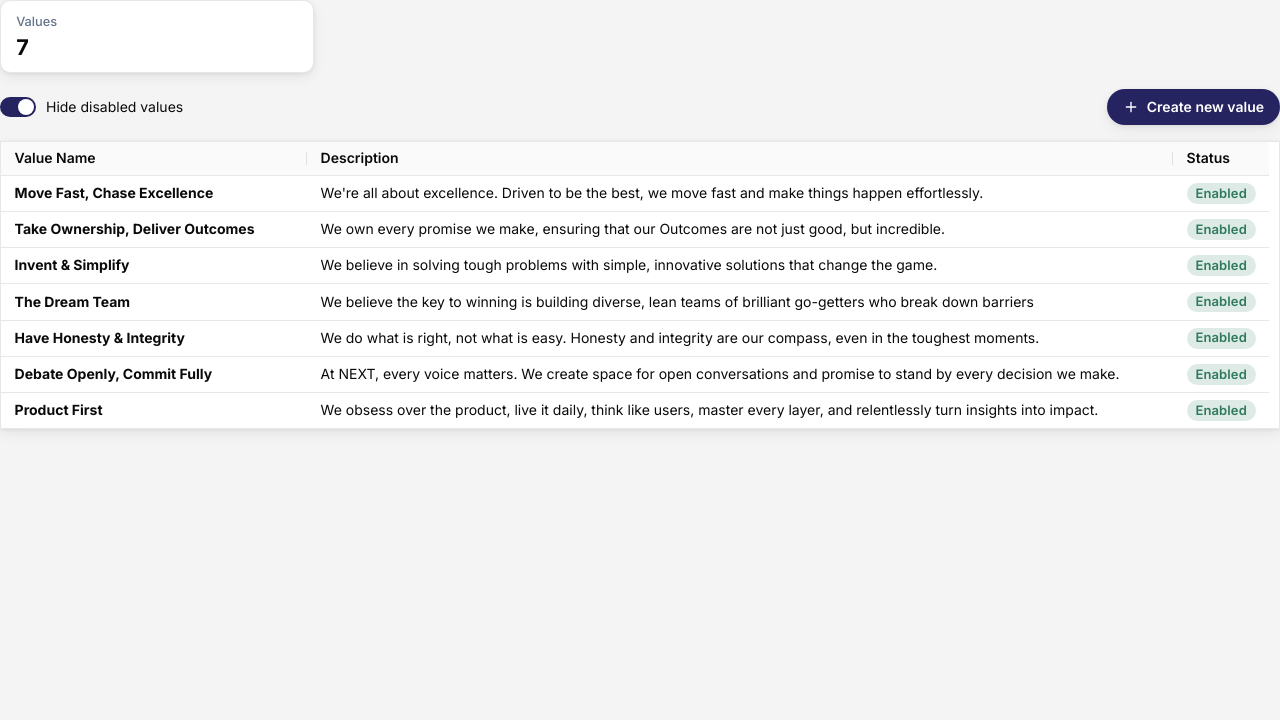
ValuesLibrary › opens edit from a table row click
The width and height of the screenshot is (1280, 720).
What coordinates should you click on to do the following:
click the text "Product First"
I would click on:
 (59, 411)
Its box is [15,401,102,420].
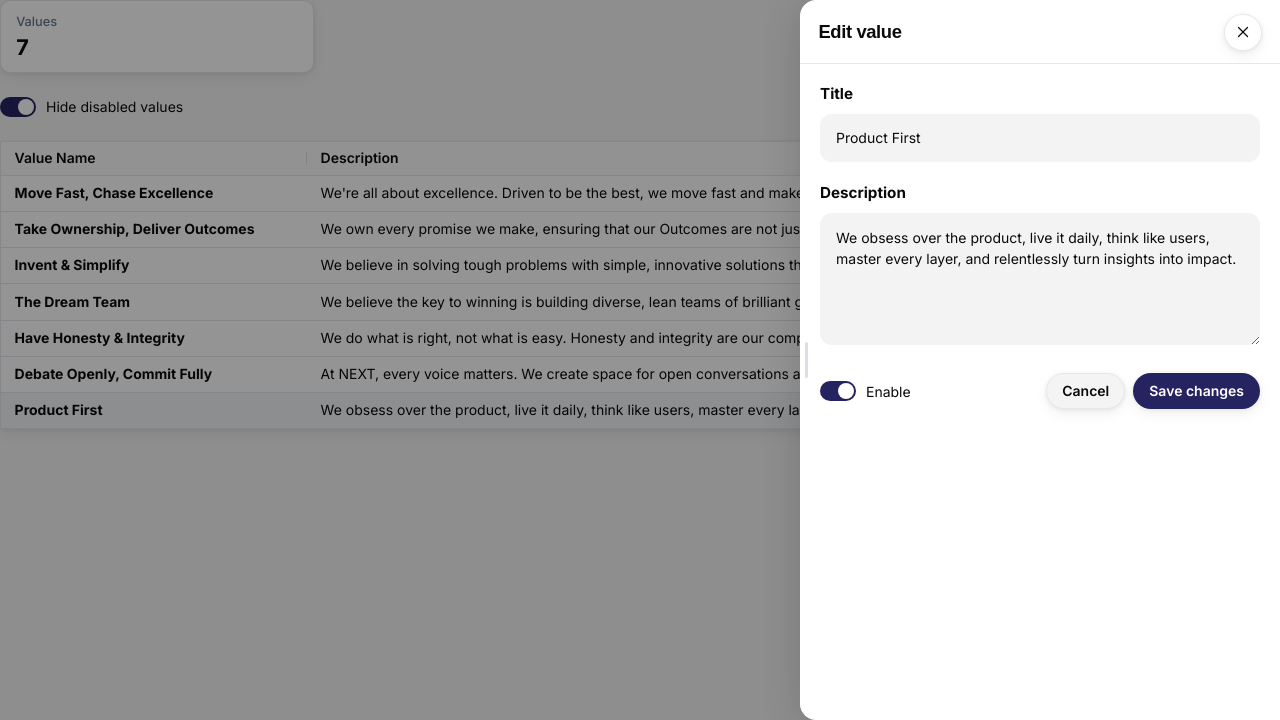
Check: the dialog "Edit value" is shown, box [800,0,1279,719]
Check: the field labelled "Title" holds "Product First", box [820,114,1260,162]
